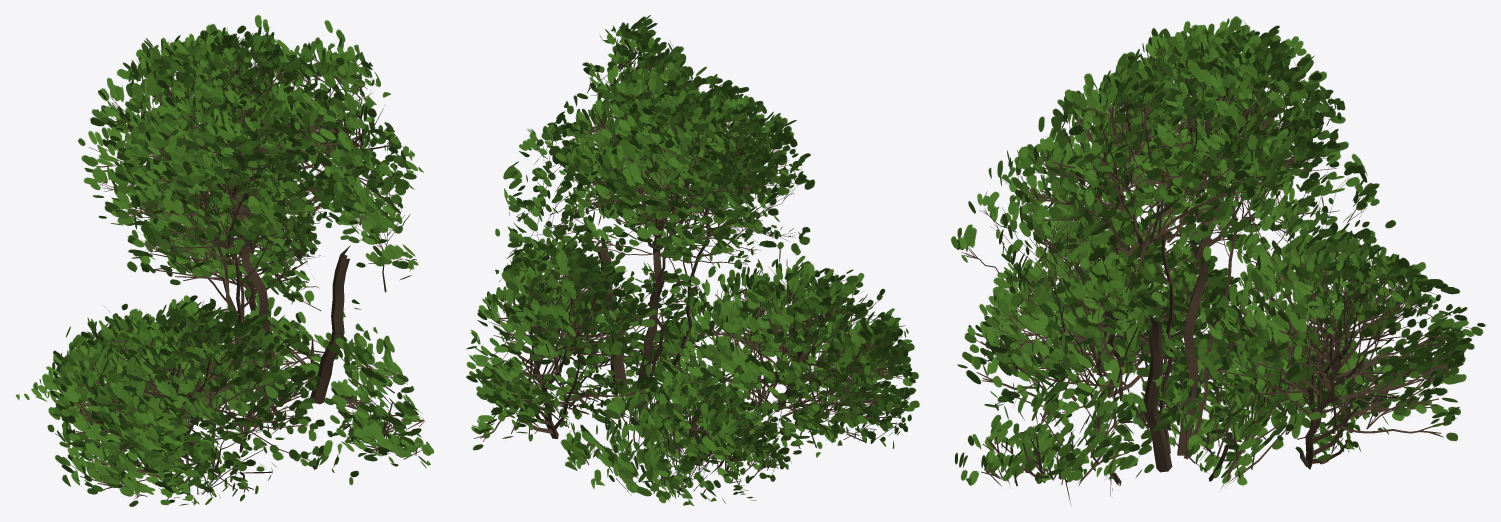
3 views of the same model, side by side, from view 1: azimuth 30°, elevation 25°; view 2: azimuth 150°, elevation 25°; view 3: azimuth 270°, elevation 25° (orthographic). The views are drawn at different scales.
Visible parts, largest first — view 1: oak 01.001_trunk_Mat.001_0.427; view 2: oak 01.001_trunk_Mat.001_0.427; view 3: oak 01.001_trunk_Mat.001_0.427.
Boxes of the visible parts, x1,y1,x2,y2 form: oak 01.001_trunk_Mat.001_0.427: (16,14,433,506); oak 01.001_trunk_Mat.001_0.427: (466,15,919,505); oak 01.001_trunk_Mat.001_0.427: (951,16,1485,503).
Bounding box in the file's own units: 2.98 × 3.49 × 3.88.
Materials: 2 (1 with a texture image).
